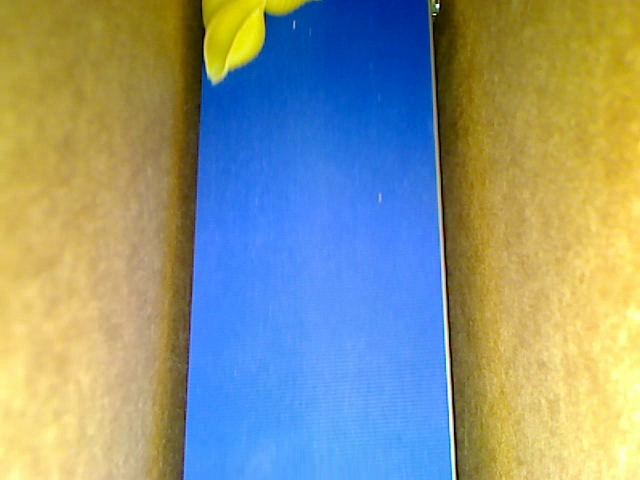shell: (203, 1, 266, 85), (261, 1, 312, 17)
